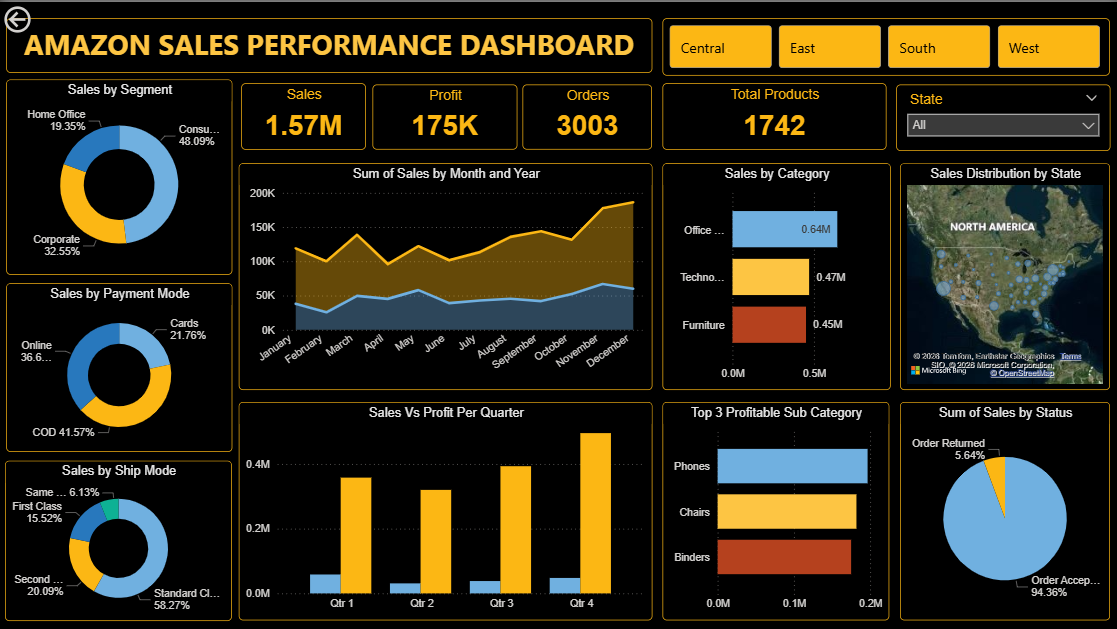

Layout of this report page (visuals, bound fields, positions):
{"tool":"powerbi","page":{"name":"Page 1","canvas":[1280,720],"ordinal":0},"visuals":[{"type":"card","title":"Sales","fields":{"Values":["Sum(Amazon Store Sales Data xlsx -.Sales)"]},"box":[275.1,92.9,142.4,76],"z":0},{"type":"card","title":"Profit","fields":{"Values":["Sum(Amazon Store Sales Data xlsx -.Profit)"]},"box":[425.9,94.1,165.3,74.8],"z":1000},{"type":"card","title":"Orders","fields":{"Values":["Count(Amazon Store Sales Data xlsx -.Order ID)"]},"box":[597.2,94.1,148.4,74.8],"z":2000},{"type":"card","title":"Total Products","fields":{"Values":["Count(Amazon Store Sales Data xlsx -.Product Name)"]},"box":[757.6,92.9,255.8,76],"z":3000},{"type":"clusteredBarChart","title":"Sales by Category","fields":{"Category":["Amazon Store Sales Data xlsx -.Category"],"Y":["Sum(Amazon Store Sales Data xlsx -.Sales)"]},"box":[757.6,184.6,260.6,259.4],"z":4000},{"type":"donutChart","title":" Sales by Segment","fields":{"Category":["Amazon Store Sales Data xlsx -.Segment"],"Y":["Sum(Amazon Store Sales Data xlsx -.Sales)"]},"box":[7.2,89.3,258.2,223.2],"z":5000},{"type":"donutChart","title":"Sales by  Payment Mode","fields":{"Y":["CountNonNull(Amazon Store Sales Data xlsx -.Order ID)"],"Category":["Amazon Store Sales Data xlsx -.Payment Mode"]},"box":[7.2,322.1,258.2,193],"z":6000},{"type":"donutChart","title":"Sales by Ship Mode","fields":{"Category":["Amazon Store Sales Data xlsx -.Ship Mode"],"Y":["Sum(Amazon Store Sales Data xlsx -.Sales)"]},"box":[6,523.6,259.4,183.4],"z":7000},{"type":"stackedAreaChart","fields":{"Category":["Table.Month"],"Y":["Sum(Table.Sales)"],"Series":["Table.Year"]},"box":[272.7,184.6,472.9,259.4],"z":8000},{"type":"clusteredColumnChart","title":"Sales Vs Profit Per Quarter","fields":{"Category":["Table.Quarter"],"Y":["Sum(Table.Profit)","Sum(Table.Sales)"]},"box":[272.7,457.2,472.9,249.7],"z":9000},{"type":"clusteredBarChart","title":"Top 3 Profitable Sub Category","fields":{"Category":["Table.Sub-Category"],"Y":["Sum(Table.Sales)"]},"box":[757.6,457.2,259.4,249.7],"z":10000},{"type":"advancedSlicerVisual","fields":{"Values":["Table.Region"]},"box":[757.1,18.6,511.4,65.7],"z":11000},{"type":"map","title":"Sales Distribution by State","fields":{"Category":["Table.State"],"Size":["Sum(Table.Sales)"]},"box":[1029.1,184.6,240.1,259.4],"z":12000},{"type":"pieChart","fields":{"Category":["Table.Status"],"Y":["Sum(Table.Sales)"]},"box":[1029.1,457.2,240.1,249.7],"z":13000},{"type":"textbox","box":[7.2,18.1,738.3,62.7],"z":14000},{"type":"actionButton","box":[0,0,100,40],"z":15000},{"type":"slicer","fields":{"Values":["Table.State"]},"box":[1024.3,94.1,244.9,76],"z":16000}]}

Visuals, with their boxes in screenshot pixels (x1, y1, x2, y2), scaled from the page's 1280x720 canvas onto the 1117x629 screenshot:
"Sales" card: (x1=240, y1=81, x2=364, y2=148)
"Profit" card: (x1=372, y1=82, x2=516, y2=148)
"Orders" card: (x1=521, y1=82, x2=651, y2=148)
"Total Products" card: (x1=661, y1=81, x2=884, y2=148)
"Sales by Category" clusteredBarChart: (x1=661, y1=161, x2=889, y2=388)
" Sales by Segment" donutChart: (x1=6, y1=78, x2=232, y2=273)
"Sales by  Payment Mode" donutChart: (x1=6, y1=281, x2=232, y2=450)
"Sales by Ship Mode" donutChart: (x1=5, y1=457, x2=232, y2=618)
stackedAreaChart - Table.Month x Sum(Table.Sales): (x1=238, y1=161, x2=651, y2=388)
"Sales Vs Profit Per Quarter" clusteredColumnChart: (x1=238, y1=399, x2=651, y2=618)
"Top 3 Profitable Sub Category" clusteredBarChart: (x1=661, y1=399, x2=887, y2=618)
advancedSlicerVisual - Table.Region: (x1=661, y1=16, x2=1107, y2=74)
"Sales Distribution by State" map: (x1=898, y1=161, x2=1108, y2=388)
pieChart - Table.Status x Sum(Table.Sales): (x1=898, y1=399, x2=1108, y2=618)
textbox: (x1=6, y1=16, x2=651, y2=71)
actionButton: (x1=0, y1=0, x2=87, y2=35)
slicer - Table.State: (x1=894, y1=82, x2=1108, y2=149)
